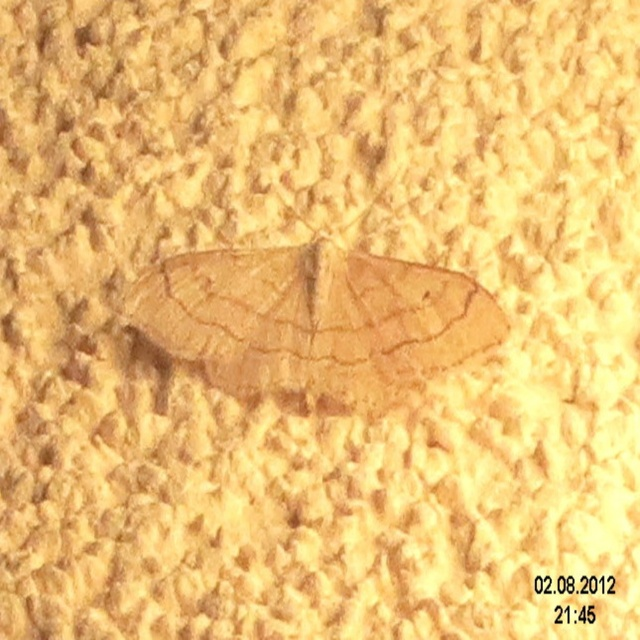Moths and butterflies: (112, 158, 516, 417)
